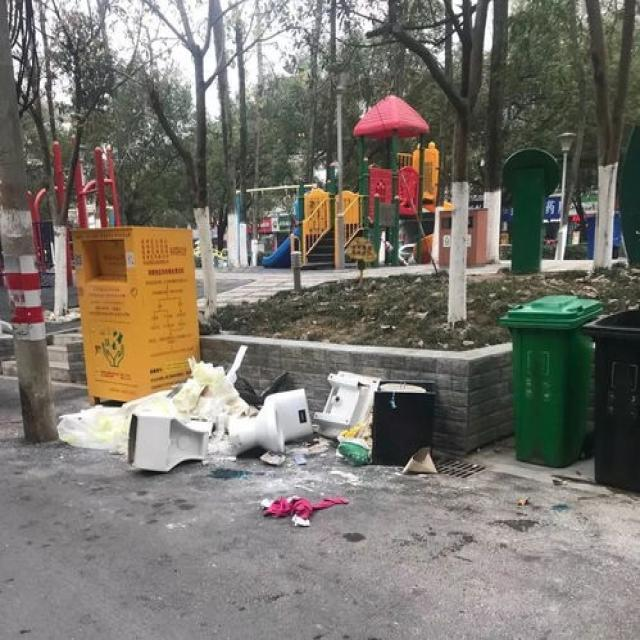garbage: (53, 342, 436, 526)
garbage_bin: (498, 293, 604, 468), (578, 306, 639, 491)
